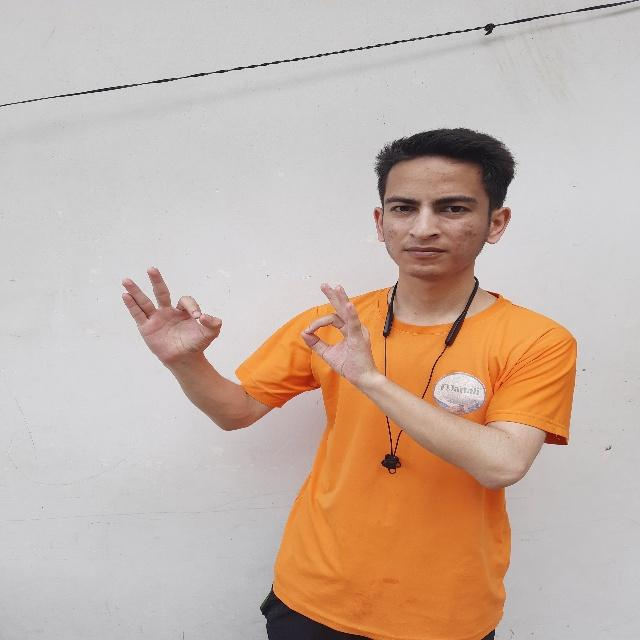Okay: (112, 252, 226, 385), (292, 279, 388, 398)
